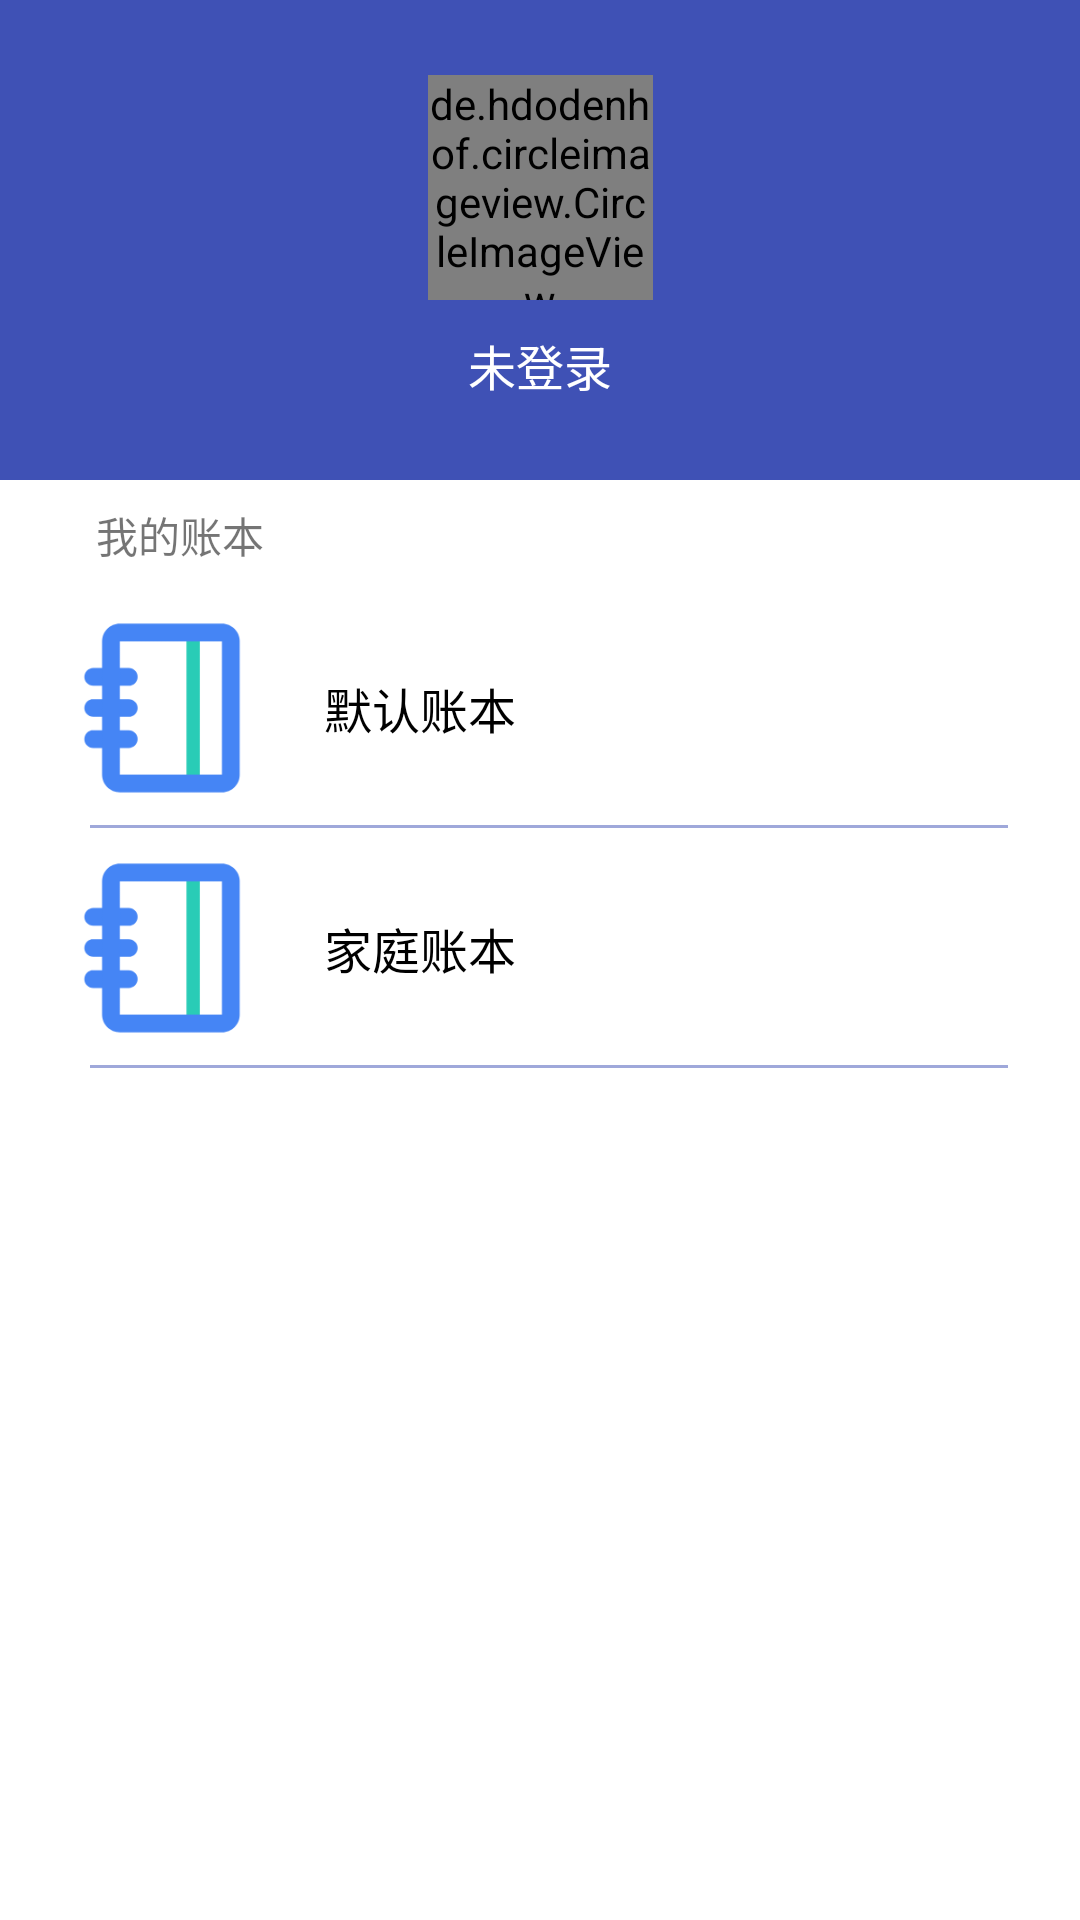

Icons on this 1080*1920 Android screen, each with its box as (x1,y1,x2,y2):
zhangben: (84,623,240,793), (84,863,240,1033)
